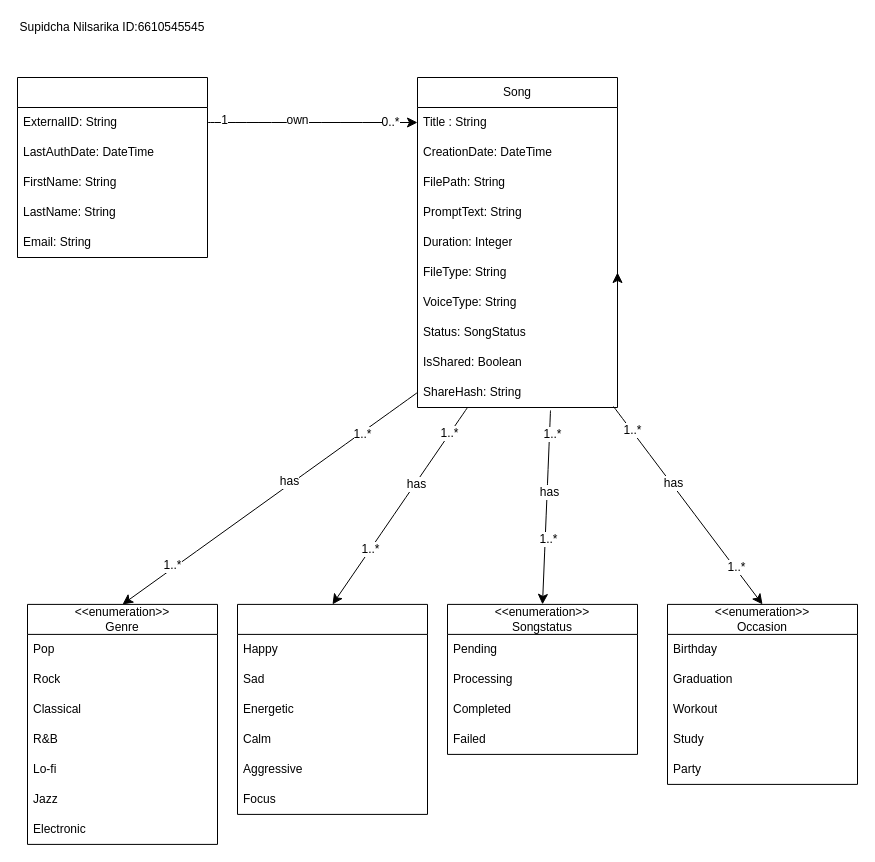
Some shapes in this 875 by 862 pixel diagram are drawn without their labels. The box of each missing label's shape, as (x1, y1, x2, y2) in pixels:
<<enumeration>> Mood: (236, 603, 428, 814)
User: (16, 76, 208, 258)
